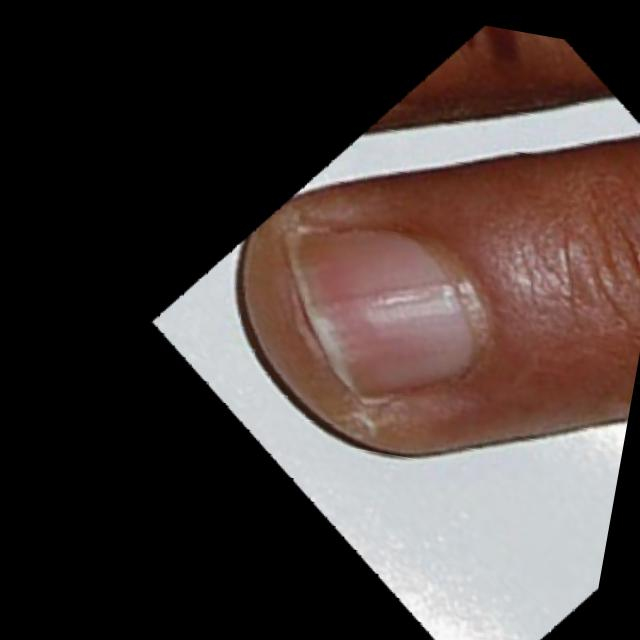Nail: (291, 223, 484, 392)
